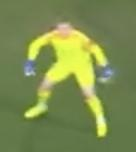goalkeeper: (15, 11, 116, 142)
